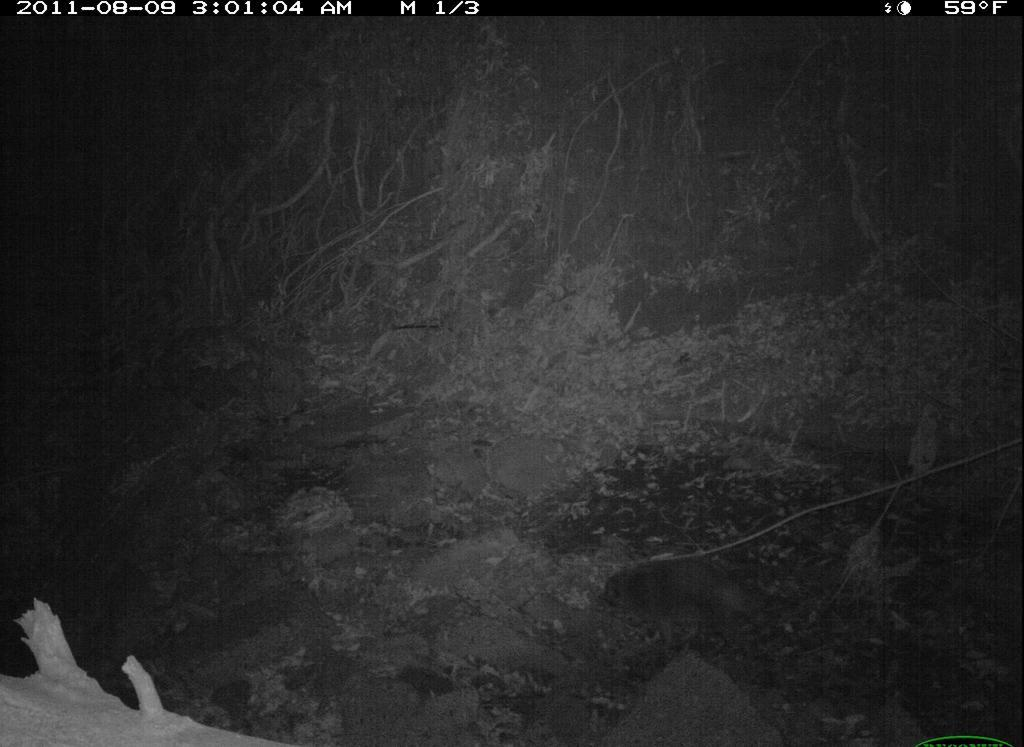raccoon: (581, 547, 796, 653)
